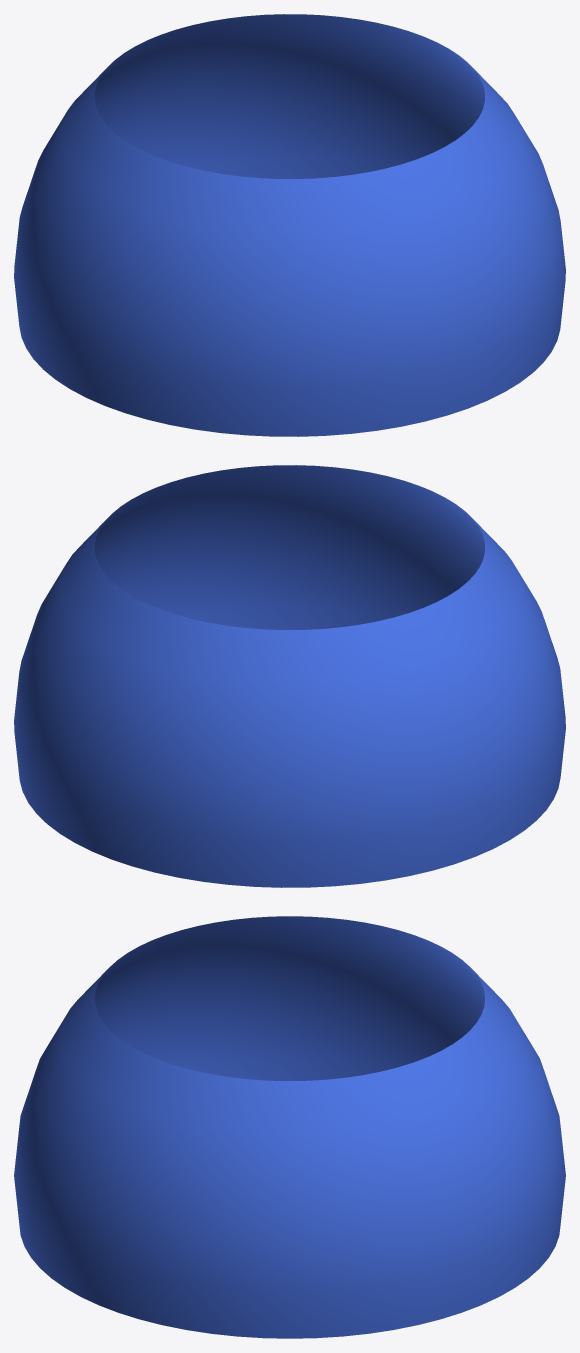
File: sky.gltf
The picture shows the model from 3 angles, top to bottom: view 1: azimuth 30°, elevation 25°; view 2: azimuth 150°, elevation 25°; view 3: azimuth 270°, elevation 25°; orthographic projection.
Visible parts, largest first — view 1: Sphere; view 2: Sphere; view 3: Sphere.
Boxes of the visible parts, left/top/right/bottom form: Sphere: left=14, top=14, right=565, bottom=436; Sphere: left=14, top=465, right=565, bottom=887; Sphere: left=14, top=916, right=565, bottom=1338.
Bounding box in the file's own units: 128 × 57.74 × 128.
